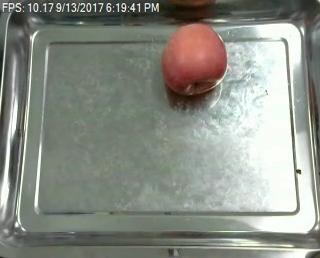apple: (161, 21, 228, 95)
